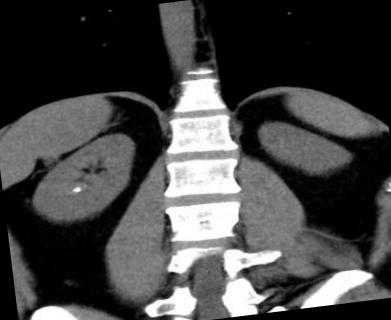Tas_Var: (70, 186, 80, 194)
